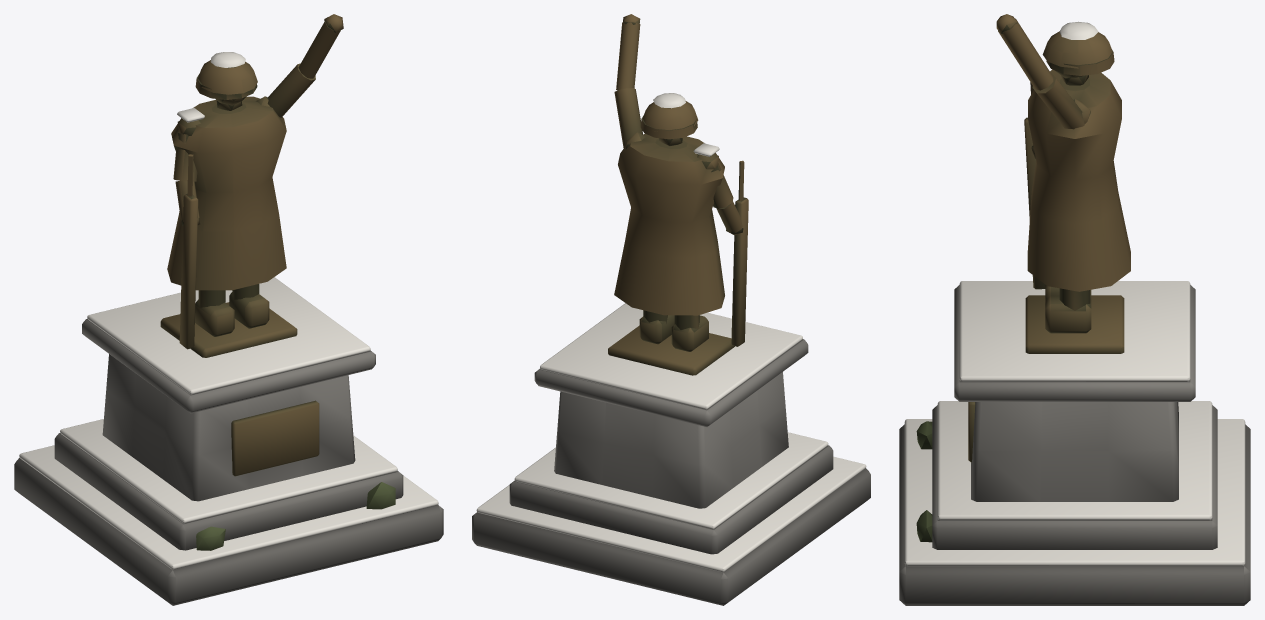
The model's file is statue.glb.
3 renders of one model, left to right at view 1: azimuth 30°, elevation 25°; view 2: azimuth 150°, elevation 25°; view 3: azimuth 270°, elevation 25°, orthographic. The views are drawn at different scales.
Visible parts, largest first — view 1: statue_stone, statue_bronze, statue_snow, statue_olive; view 2: statue_stone, statue_bronze, statue_snow; view 3: statue_stone, statue_snow, statue_bronze, statue_olive.
Boxes of the visible parts, box(x1,y1,x2,y2) form: statue_stone: box(14, 318, 443, 605); statue_bronze: box(160, 14, 343, 476); statue_snow: box(19, 52, 438, 569); statue_olive: box(196, 482, 395, 550); statue_stone: box(472, 339, 870, 605); statue_bronze: box(608, 14, 748, 375); statue_snow: box(476, 93, 866, 572); statue_stone: box(899, 285, 1250, 605); statue_snow: box(904, 21, 1245, 566); statue_bronze: box(968, 14, 1130, 462); statue_olive: box(916, 421, 932, 542).
Bounding box in the file's own units: 3.2 × 5.63 × 3.2.
